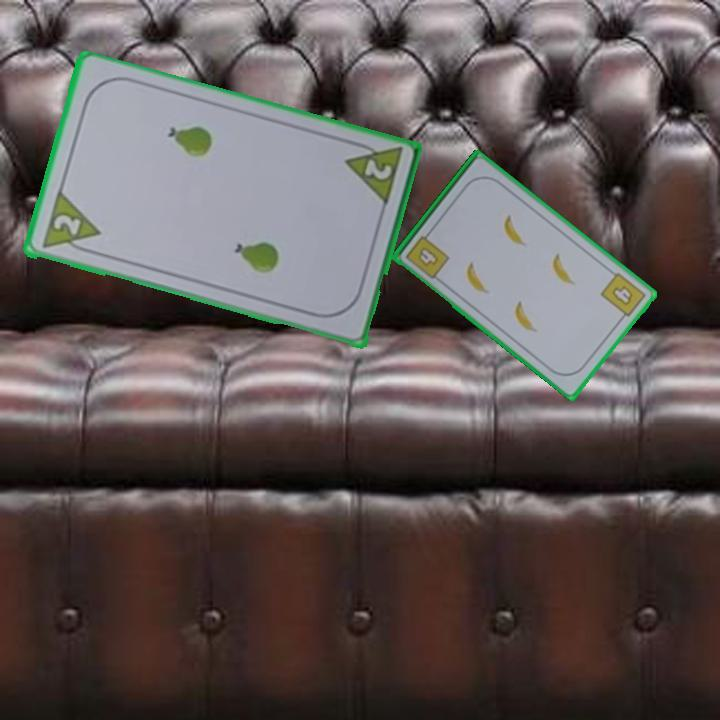2p: (341, 136, 405, 210), (37, 189, 103, 258)
4b: (597, 269, 649, 324), (402, 227, 452, 282)
